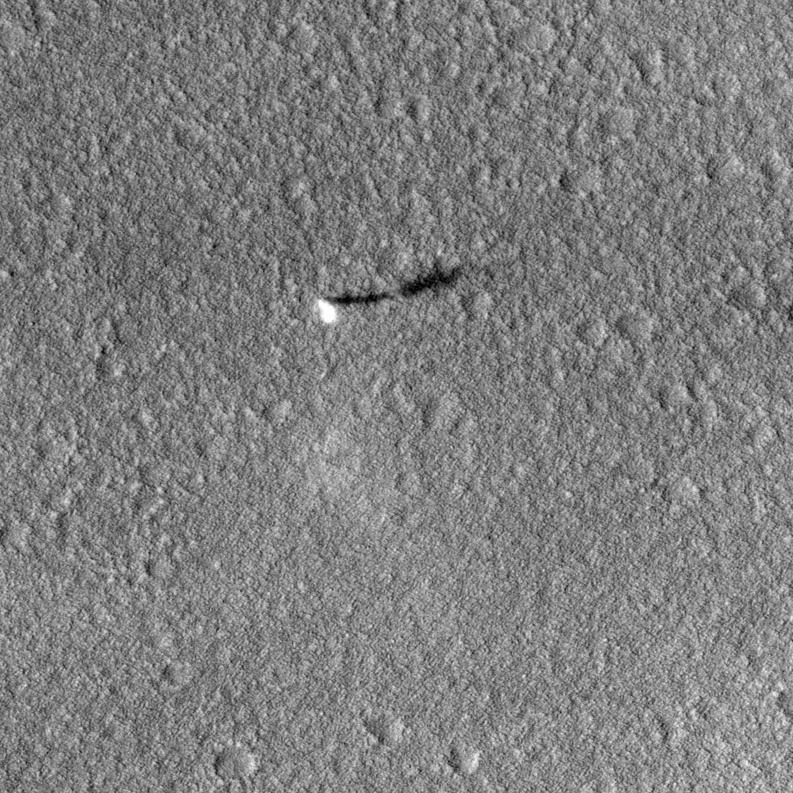dust_devil: (314, 263, 466, 326)
